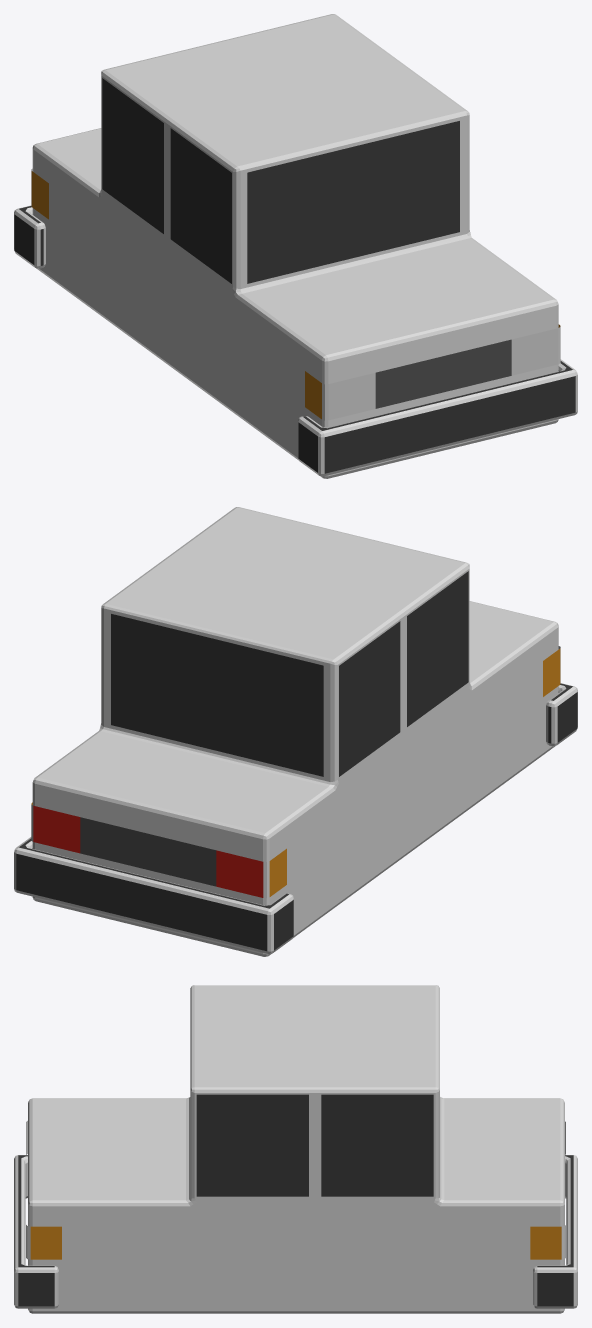
The model's file is Vehicle.fbx.
3 renders of one model, top to bottom at view 1: azimuth 30°, elevation 25°; view 2: azimuth 150°, elevation 25°; view 3: azimuth 270°, elevation 25°, orthographic. The views are drawn at different scales.
Parts seen in each view (by area): view 1: Body; view 2: Body; view 3: Body.
Boxes of the visible parts, left/top/right/bottom form: Body: left=14, top=14, right=577, bottom=478; Body: left=14, top=507, right=577, bottom=956; Body: left=14, top=985, right=577, bottom=1313.
Size of the model in its own units: 2.19 by 2 by 4.52.
